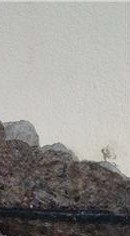Corrosion: (1, 119, 130, 236)
Exposed reinforcement: (1, 206, 130, 222)
